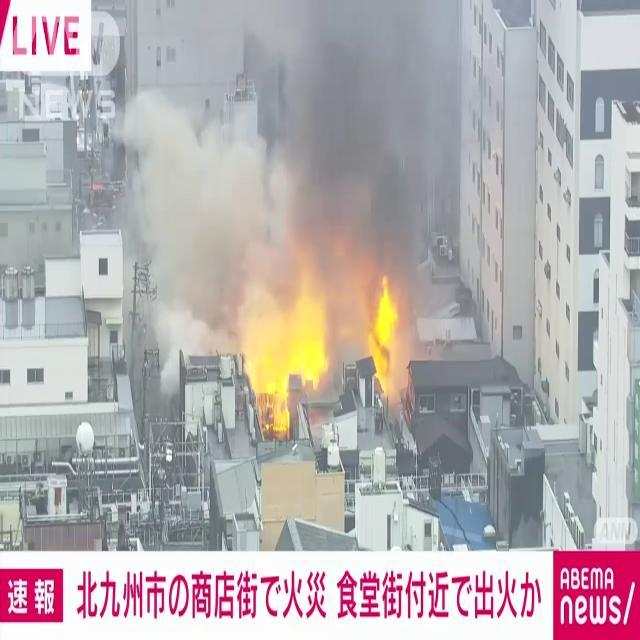Fire: (242, 263, 330, 434), (366, 272, 402, 398)
Smoke: (126, 1, 468, 329)
